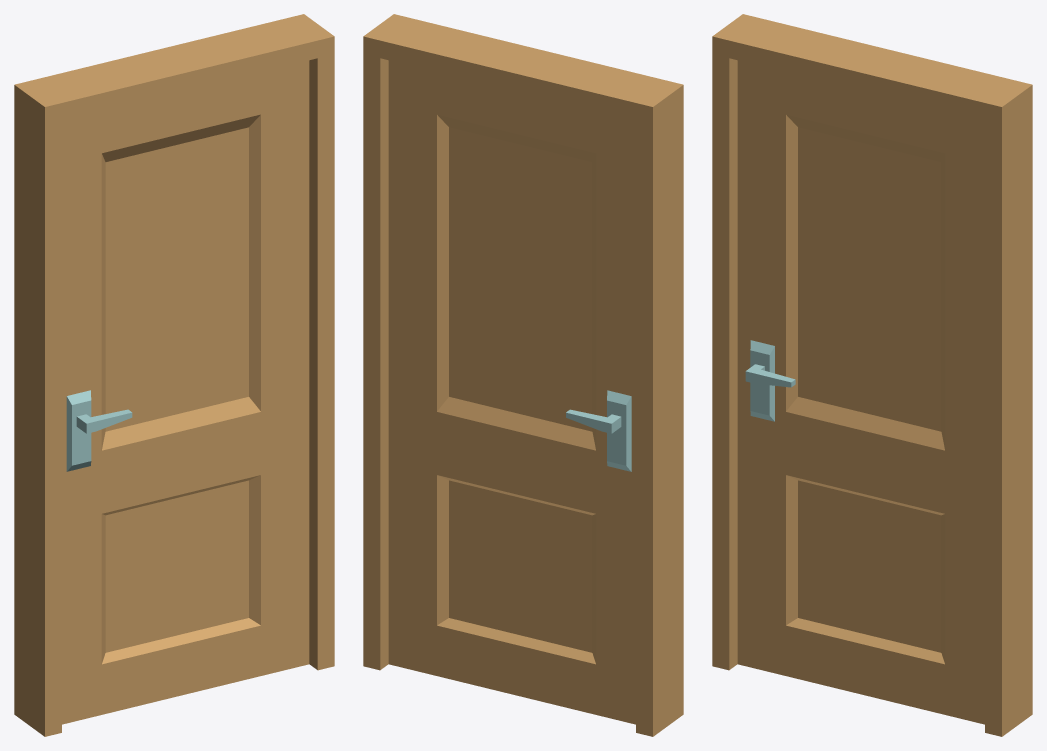
File: doorway.glb
3 views of the same model, side by side, from view 1: azimuth 30°, elevation 25°; view 2: azimuth 150°, elevation 25°; view 3: azimuth 330°, elevation 25° (orthographic).
Size of the model in its own units: 4.86 by 10.1 by 1.13.
